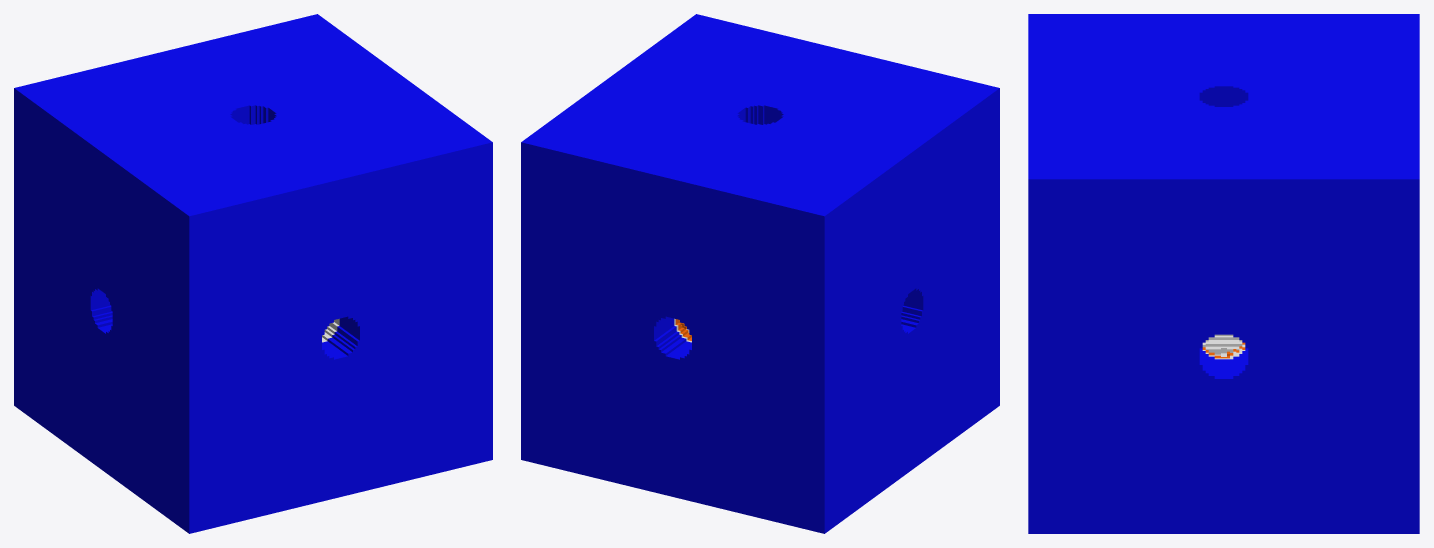
The model's file is Mine_ORIG.obj.
The picture shows the model from 3 angles, left to right: view 1: azimuth 30°, elevation 25°; view 2: azimuth 150°, elevation 25°; view 3: azimuth 270°, elevation 25°; orthographic projection. The views are drawn at different scales.
Bounding box in the file's own units: 12.8 × 12.8 × 12.8.
